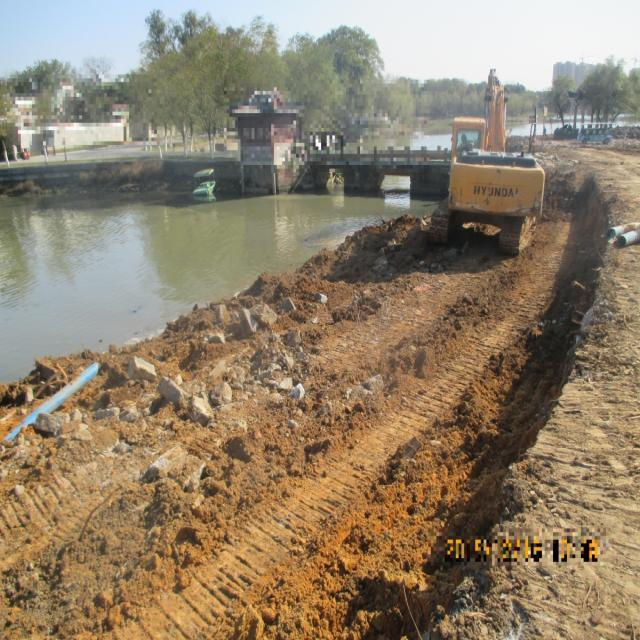excavator: (428, 67, 544, 254)
